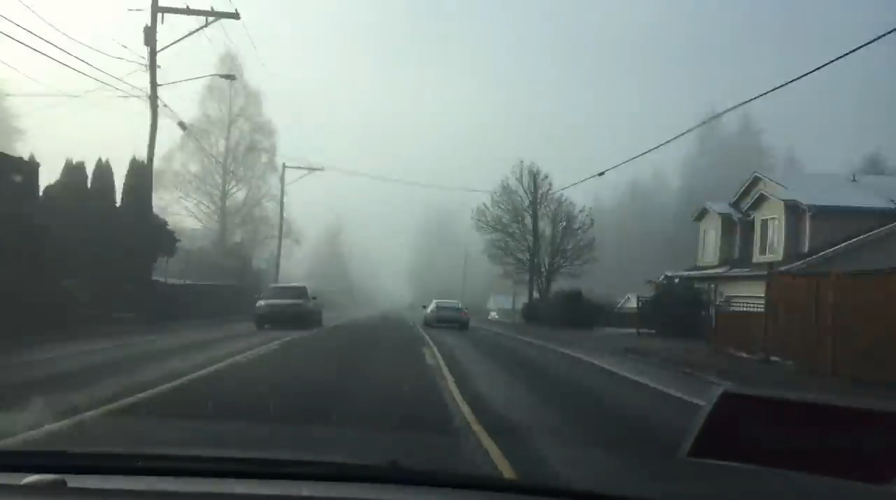car: (252, 282, 325, 329), (420, 298, 470, 330)
